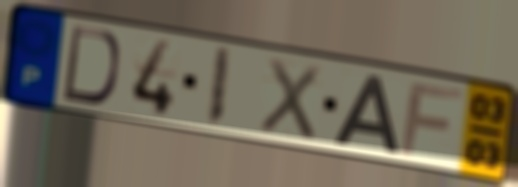4: (128, 37, 177, 118)
A: (330, 73, 402, 156)
D: (59, 22, 122, 108)
F: (397, 80, 467, 158)
I: (203, 44, 234, 131)
X: (255, 54, 323, 144)
